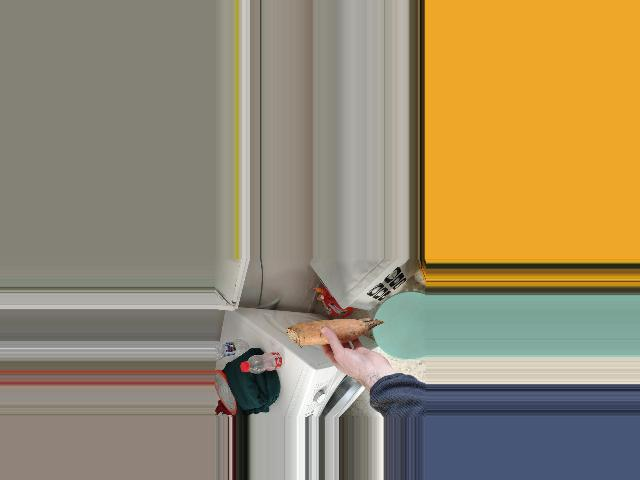sweet_potato: (282, 322, 377, 348)
